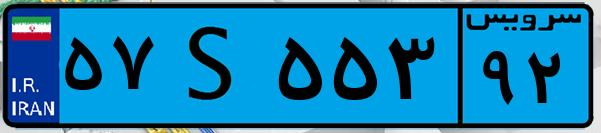2: (525, 38, 570, 115)
3: (385, 28, 445, 110)
5: (270, 28, 330, 110), (330, 28, 385, 110), (57, 26, 110, 100)
7: (110, 28, 158, 98)
9: (475, 38, 525, 113)
S: (158, 12, 270, 120)
